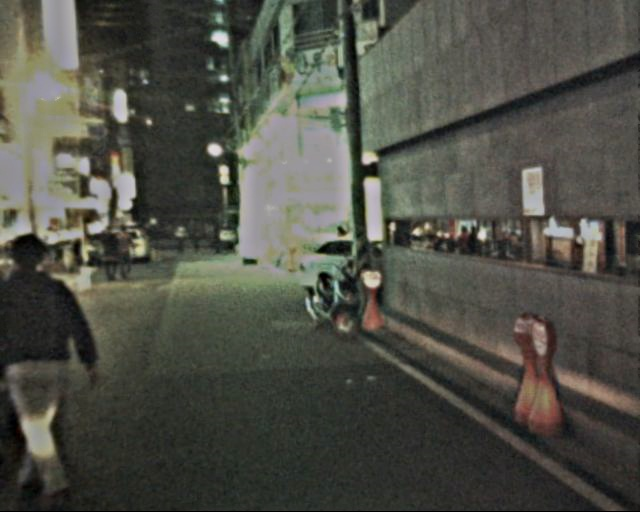person: (4, 221, 103, 496), (139, 220, 224, 261), (114, 221, 140, 281), (99, 218, 124, 279)
